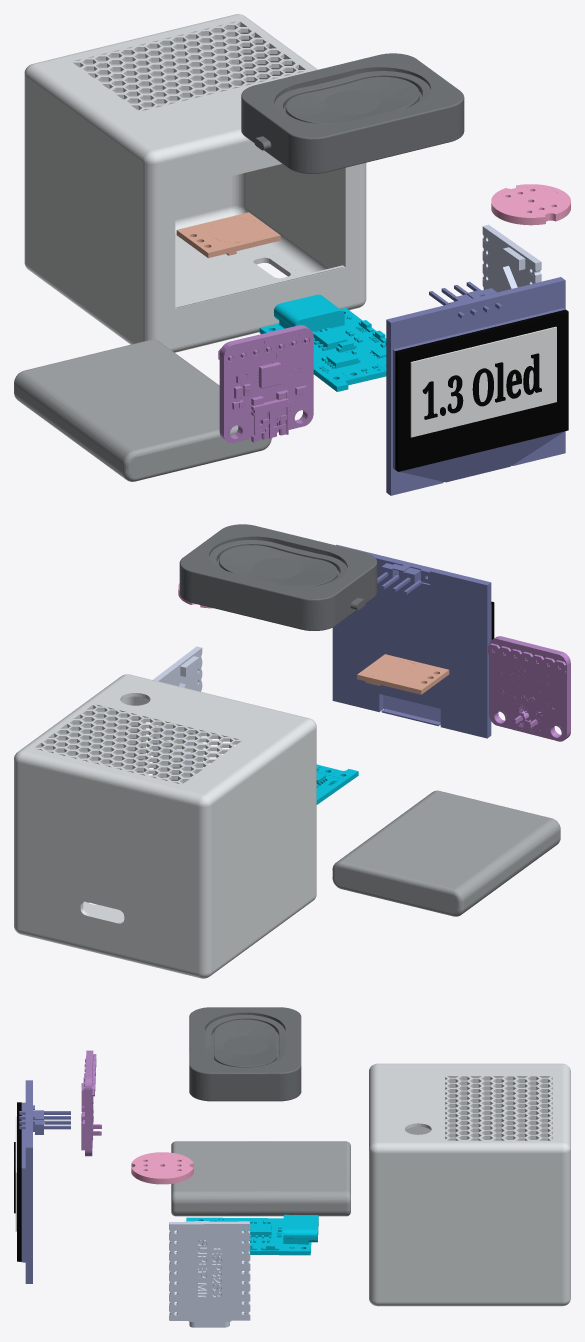
The model's file is iva-open.glb.
The picture shows the model from 3 angles, top to bottom: view 1: azimuth 30°, elevation 25°; view 2: azimuth 150°, elevation 25°; view 3: azimuth 270°, elevation 25°; orthographic projection. The views are drawn at different scales.
Visible parts, largest first — view 1: color_12568524, color_6383466, color_2829873, color_0, color_3356795, color_8273816, color_14541540, color_40919, color_13463636, color_11452141, color_16345508; view 2: color_12568524, color_3356795, color_6383466, color_2829873, color_8273816, color_13463636, color_11452141, color_40919; view 3: color_12568524, color_6383466, color_2829873, color_11452141, color_3356795, color_40919, color_16345508, color_8273816, color_0.
Part boxes in pixels (x1,y1,x2,y2): color_12568524: (24,14,366,352); color_6383466: (14,339,271,481); color_2829873: (241,53,464,173); color_0: (395,309,568,471); color_3356795: (386,277,565,495); color_8273816: (218,325,313,442); color_14541540: (410,326,556,437); color_40919: (259,294,386,391); color_13463636: (176,212,280,258); color_11452141: (482,224,541,292); color_16345508: (491,184,570,225); color_12568524: (14,674,316,978); color_3356795: (332,544,491,738); color_6383466: (332,790,560,916); color_2829873: (179,524,377,630); color_8273816: (488,636,570,741); color_13463636: (357,654,449,694); color_11452141: (152,646,203,783); color_40919: (316,764,358,804); color_12568524: (369,1063,570,1306); color_6383466: (171,1141,350,1216); color_2829873: (189,1007,301,1101); color_11452141: (169,1221,250,1327); color_3356795: (19,1080,70,1283); color_40919: (186,1214,318,1255); color_16345508: (131,1152,193,1184); color_8273816: (81,1050,101,1156); color_0: (14,1102,21,1261).
Bounding box in the file's own units: 0.7097 × 0.4677 × 1.
